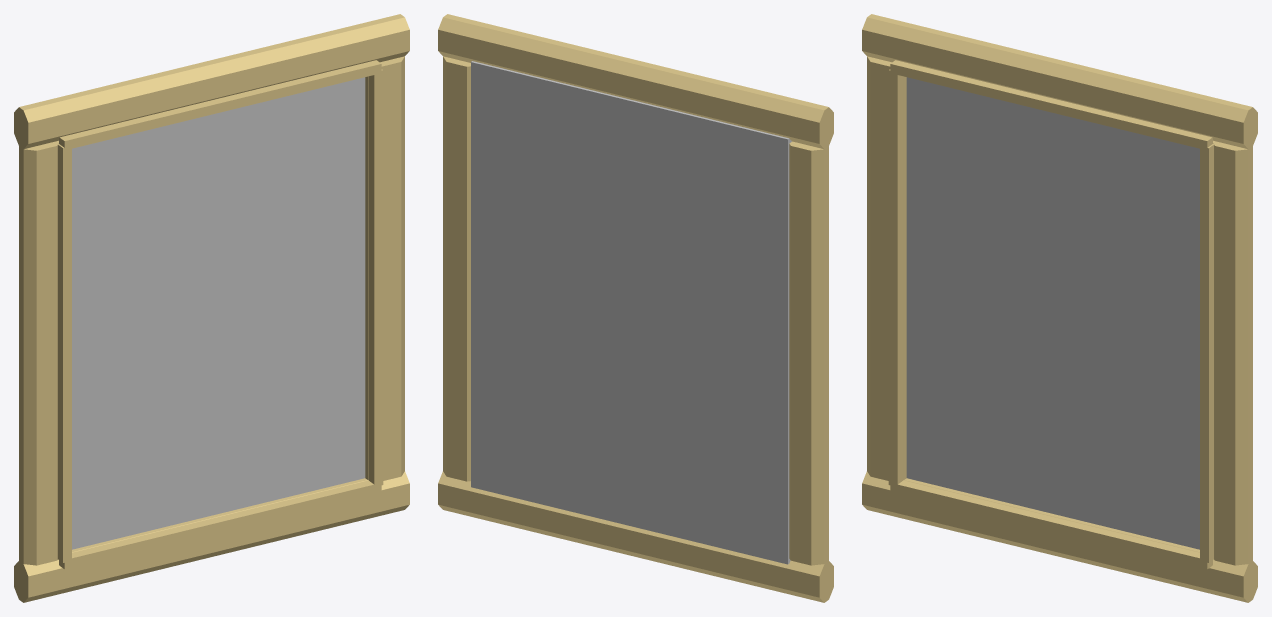
Rendered from clutter_painting_portrait.glb.
3 views of the same model, side by side, from view 1: azimuth 30°, elevation 25°; view 2: azimuth 150°, elevation 25°; view 3: azimuth 330°, elevation 25° (orthographic).
Parts seen in each view (by area): view 1: clutter_painting_portrait; view 2: clutter_painting_portrait; view 3: clutter_painting_portrait.
Boxes of the visible parts, box(x1,y1,x2,y2) form: clutter_painting_portrait: box(14, 14, 409, 602); clutter_painting_portrait: box(438, 14, 833, 602); clutter_painting_portrait: box(862, 14, 1257, 602).
Size of the model in its own units: 0.77 by 0.95 by 0.064.
